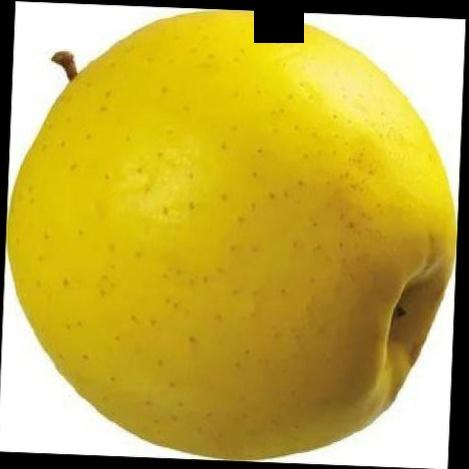green apple: (13, 12, 457, 461)
